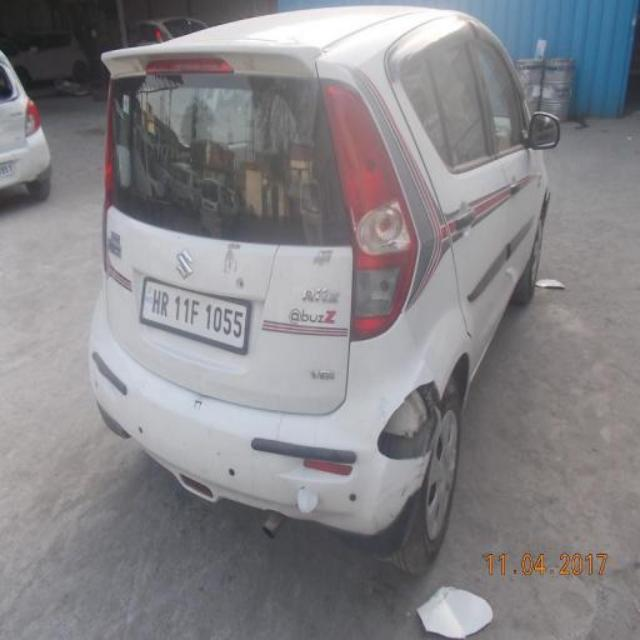dent: (286, 480, 324, 521)
no part: (371, 376, 442, 473)
scratch: (372, 461, 430, 531)
